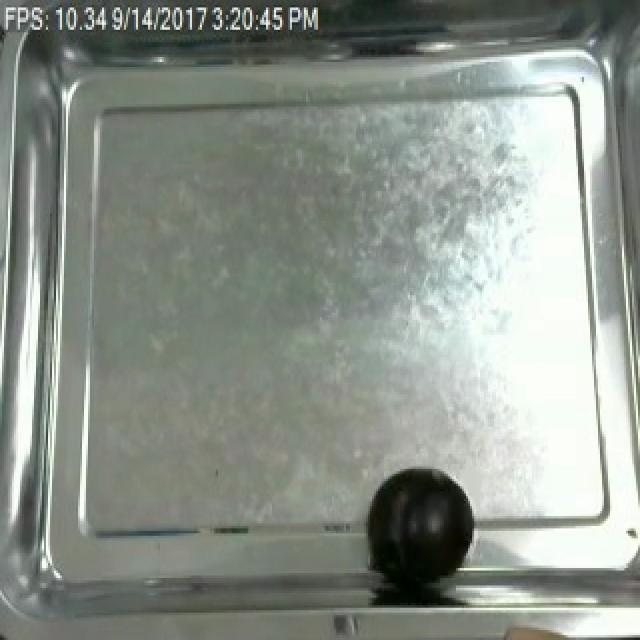Fruit: (364, 464, 478, 583)
